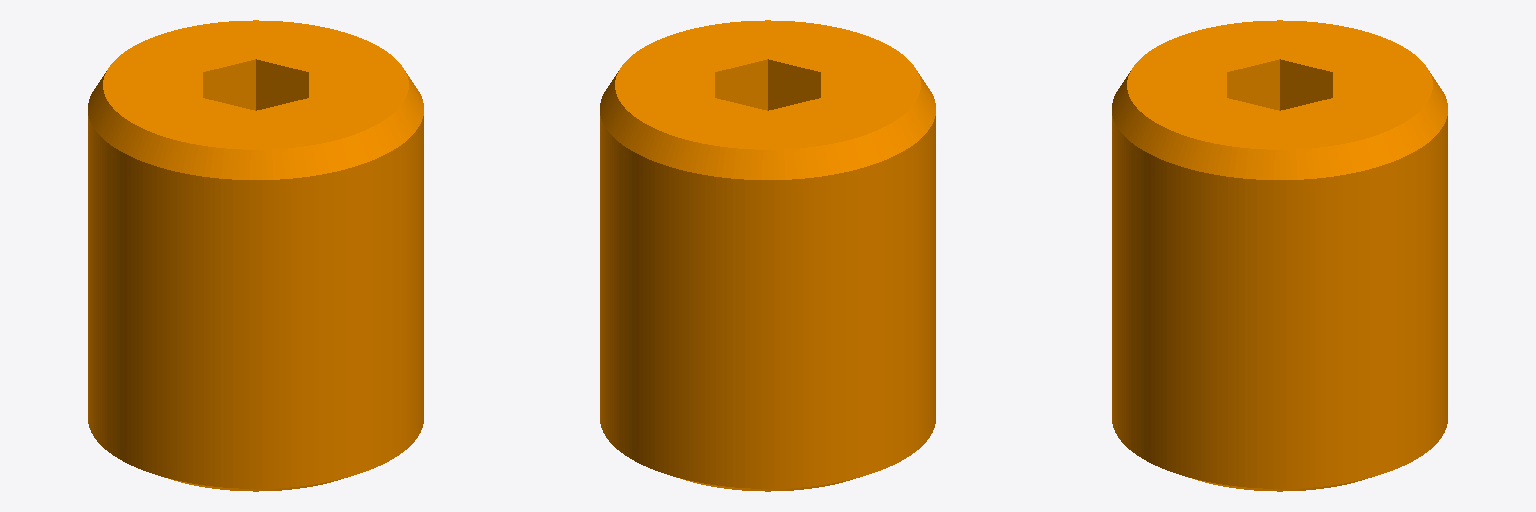
The robot description file, URDF, robot "peg_round":
<?xml version="1.0" ?>
<robot name="peg_round">
  <link name="peg_link">
    <contact>
      <lateral_friction value="1.0"/>
      <rolling_friction value="0.5"/>
      <contact_cfm value="0.0"/>
      <contact_erp value="1.0"/>
    </contact>
    <inertial>
      <origin rpy="3.14159265359 0 0" xyz="-0.0225 0.0225 0"/>
        <mass value="0.1"/>
        <inertia ixx="0.01" ixy="0" ixz="0" iyy="0.01" iyz="0" izz="0.01"/>
    </inertial>
    <visual>
      <origin rpy="3.14159265359 0 0" xyz="-0.0225 0.0225 0"/>
      <geometry>
			  <mesh filename="meshes/peg/peg_round.STL" scale="0.001 0.001 0.001"/>
      </geometry>
      <material name="orange">
        <color rgba="1 0.6 0 1"/>
      </material>
    </visual>
    <collision>
      <origin rpy="3.14159265359 0 0" xyz="-0.0225 0.0225 0"/>
      <geometry>
	 	    <mesh filename="meshes/peg/peg_round.STL" scale="0.001 0.001 0.001"/>
      </geometry>
    </collision>
  </link>
</robot>

--- What the picture shows (computed from the rendered views, not written in the file) ---
The picture shows the robot from 3 angles, left to right: view 1: azimuth 30°, elevation 25°; view 2: azimuth 150°, elevation 25°; view 3: azimuth 270°, elevation 25°; orthographic projection.
Robot: peg_round — 1 links, 0 joints (none); root link peg_link; default pose: all joints at 0.
Visible links, largest first — view 1: peg_link; view 2: peg_link; view 3: peg_link.
Link boxes in pixels (box(x1,y1,x2,y2)): peg_link: box(88, 20, 423, 491); peg_link: box(600, 20, 935, 491); peg_link: box(1112, 20, 1447, 491).
Size in the robot's own frame: 0.044 by 0.044 by 0.05 metres.
1 mesh visuals loaded from 1 distinct referenced files (1 binary STL).